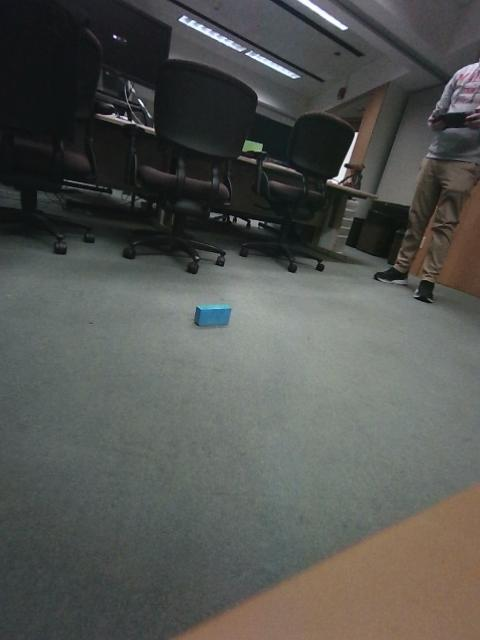block: (181, 261, 214, 295)
